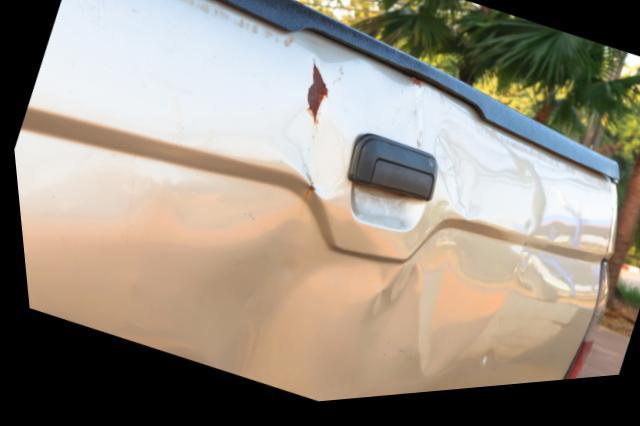dent: (199, 60, 527, 407)
